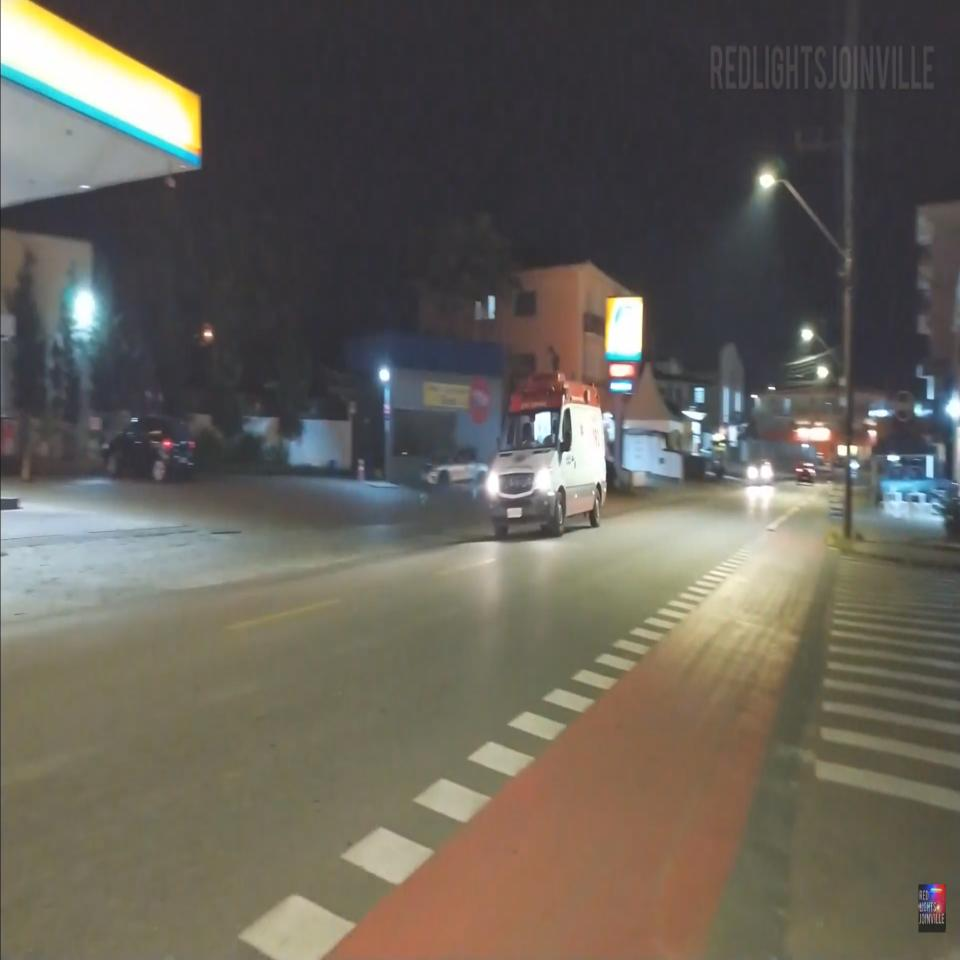ambulancia: (484, 369, 608, 543)
